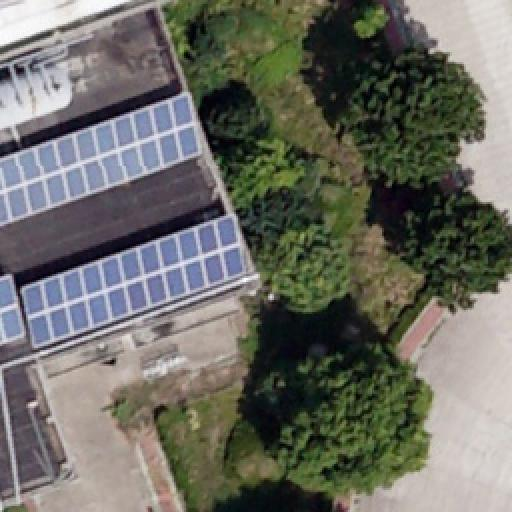solar-panel: (22, 215, 246, 345), (0, 94, 204, 226), (0, 272, 26, 344)
